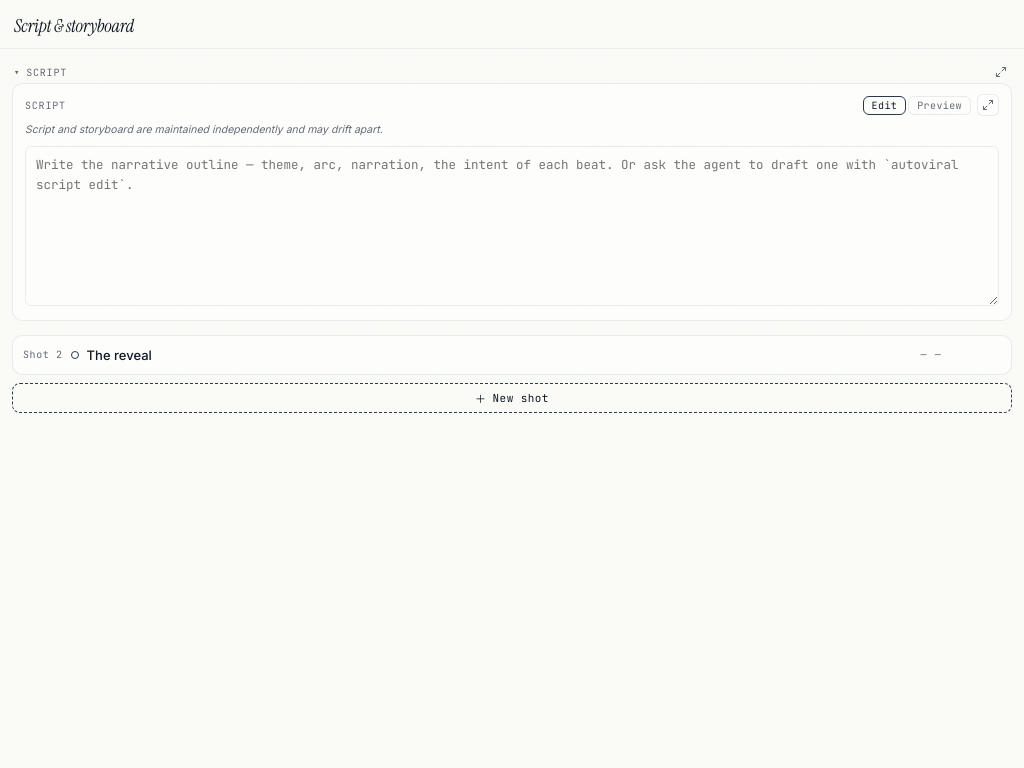
Test: ScriptTab (S7) — generate / reshoot through the per-intent bridge › surfaces a friendly error (role=alert) when generation fails
The image size is (1024, 768).
Click the button with aria-label "expand shot" at coordinates (43, 355), box [23, 347, 941, 363]
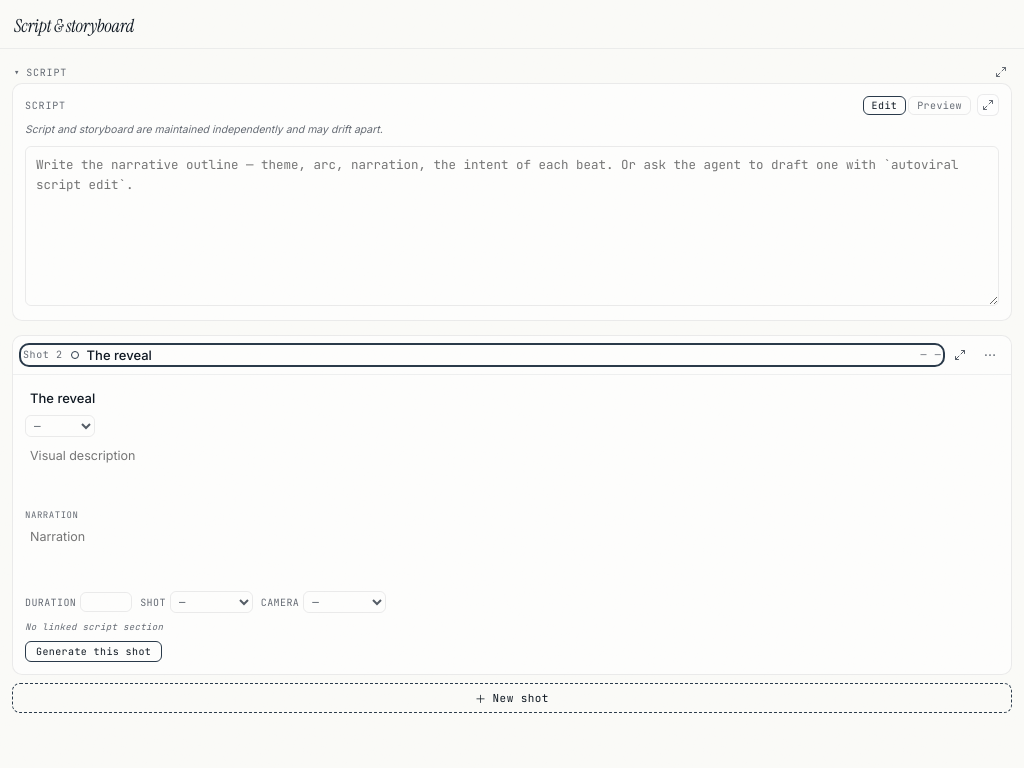
Click the button "Generate this shot" at coordinates (94, 652), box [25, 641, 162, 662]
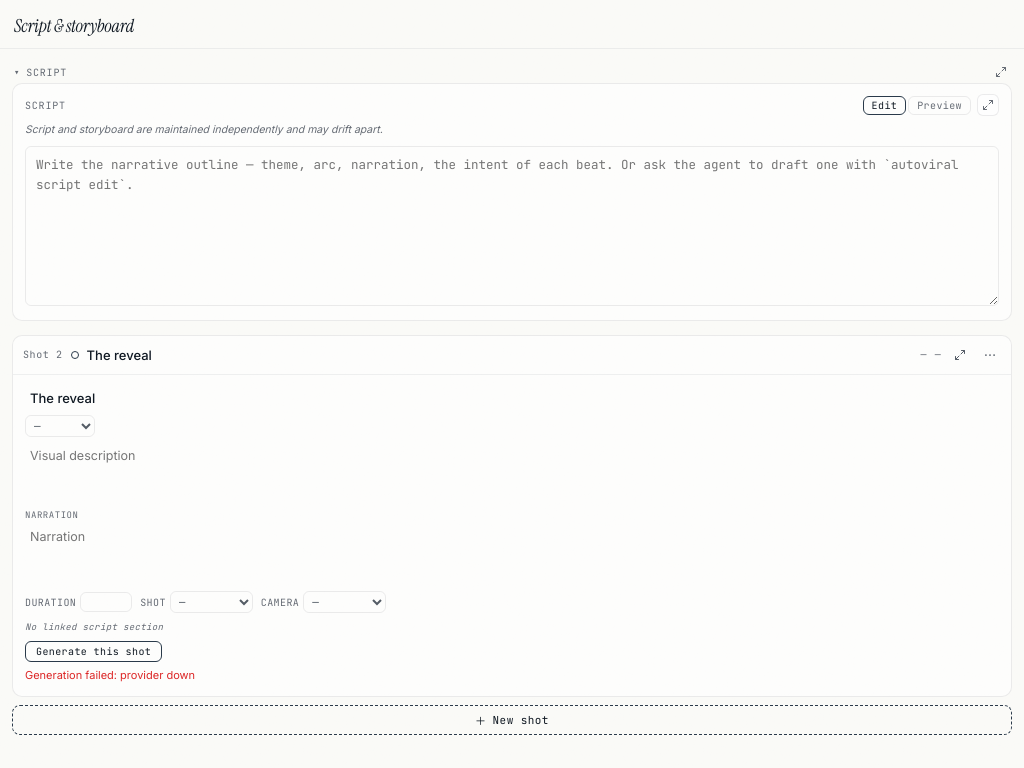
Check: the message shows "provider down", box [25, 668, 195, 682]
